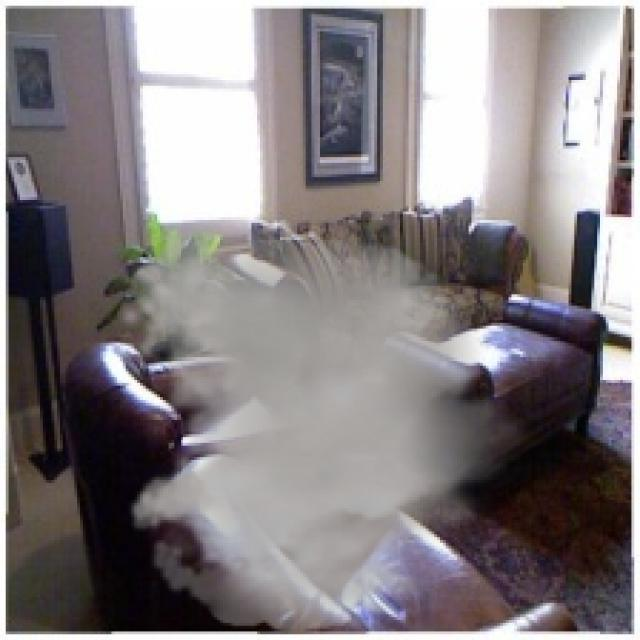Smoke: (117, 223, 537, 632)
